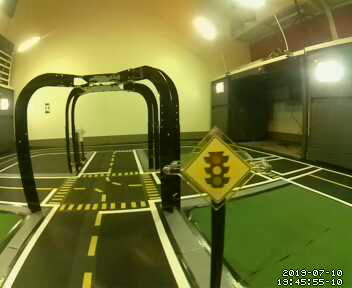Traffic light sign: (184, 137, 248, 203)
